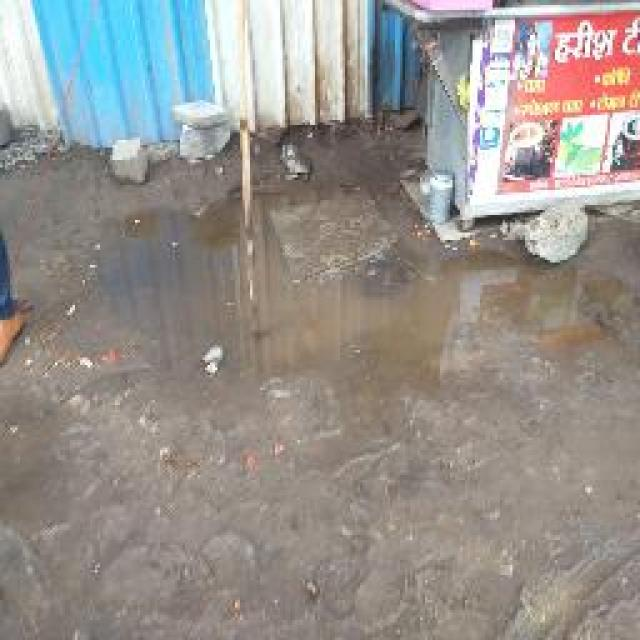puddle: (125, 236, 612, 398)
